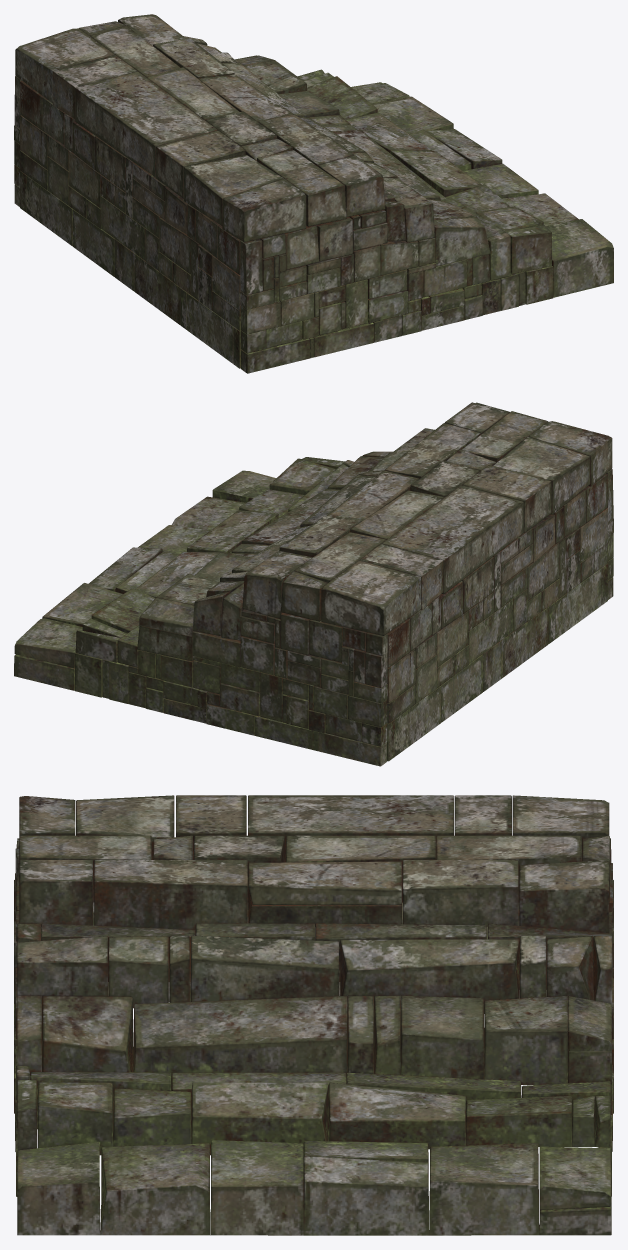
The model's file is stone_stair_case.glb.
The picture shows the model from 3 angles, top to bottom: view 1: azimuth 30°, elevation 25°; view 2: azimuth 150°, elevation 25°; view 3: azimuth 270°, elevation 25°; orthographic projection. The views are drawn at different scales.
Visible parts, largest first — view 1: stone_staircase; view 2: stone_staircase; view 3: stone_staircase.
Part boxes in pixels (x1,y1,x2,y2): stone_staircase: [14, 14, 613, 373]; stone_staircase: [14, 402, 613, 766]; stone_staircase: [14, 795, 613, 1235].
Bounding box in the file's own units: 193 × 82.25 × 209.
Materials: 1 (1 with a texture image).
